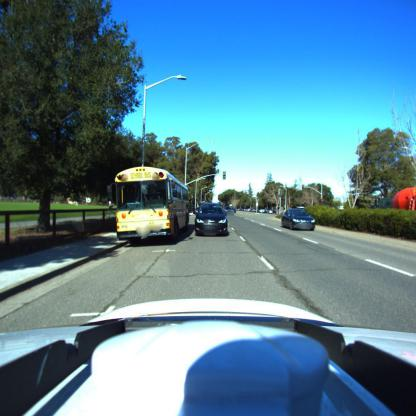bus: (113, 165, 190, 246)
car: (194, 202, 228, 236), (280, 209, 315, 232), (226, 204, 236, 214)
truck: (386, 178, 416, 214)
